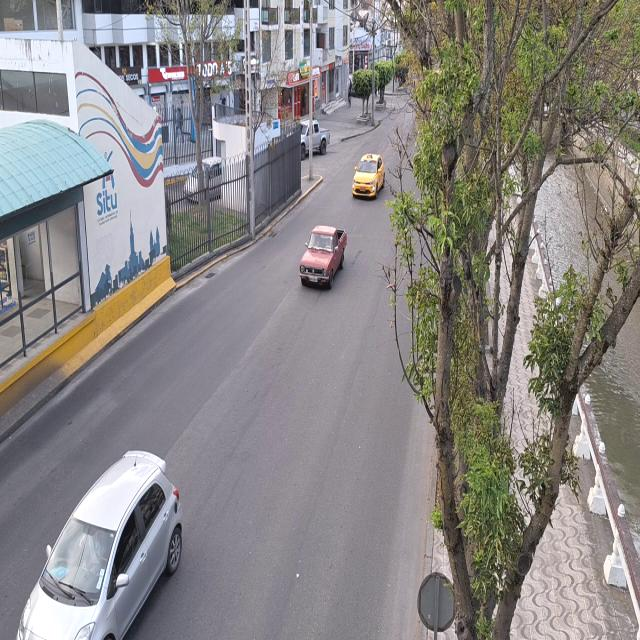CMT: (302, 228, 349, 290)
SED: (10, 437, 192, 639), (351, 151, 386, 202)
